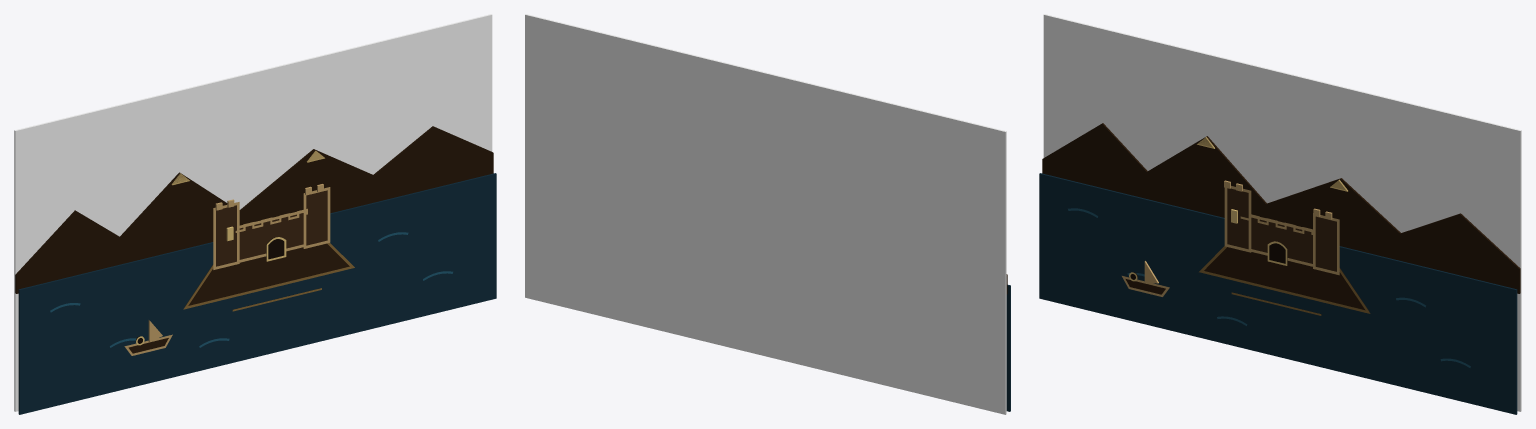
Rendered from loc-ostrov-krepost.glb.
3 renders of one model, left to right at view 1: azimuth 30°, elevation 25°; view 2: azimuth 150°, elevation 25°; view 3: azimuth 330°, elevation 25°, orthographic.
Parts seen in each view (by area): view 1: loc-ostrov-krepost; view 2: loc-ostrov-krepost; view 3: loc-ostrov-krepost.
Boxes of the visible parts, box(x1,y1,x2,y2) form: loc-ostrov-krepost: box(14, 14, 496, 414); loc-ostrov-krepost: box(525, 14, 1010, 414); loc-ostrov-krepost: box(1039, 14, 1521, 414).
Bounding box in the file's own units: 5.33 × 3 × 0.361.
